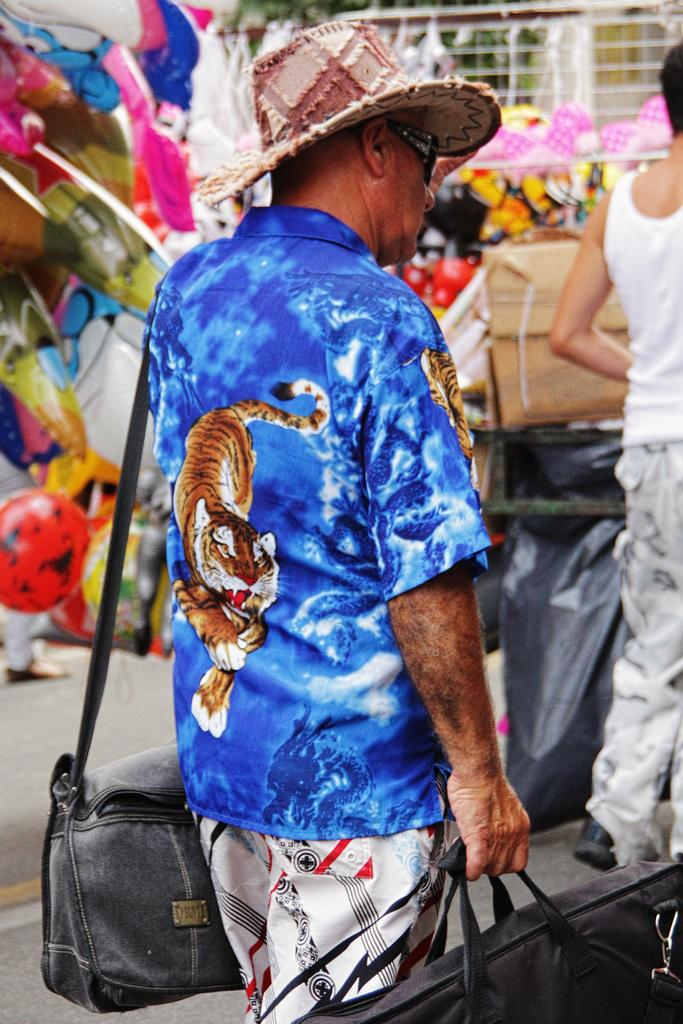Luggage-and-bags: (35, 309, 252, 1011), (289, 849, 675, 1023)
